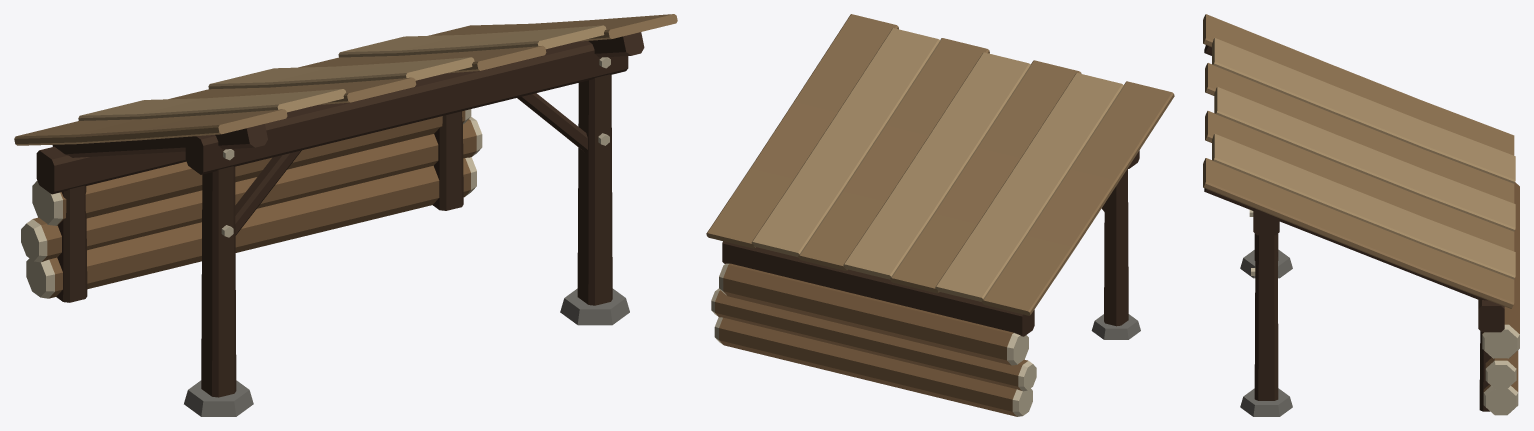
File: lean-to-shelter-f0709f.glb
3 views of the same model, side by side, from view 1: azimuth 30°, elevation 25°; view 2: azimuth 150°, elevation 25°; view 3: azimuth 270°, elevation 25° (orthographic). The views are drawn at different scales.
Visible parts, largest first — view 1: lean-to-shelter-shell; view 2: lean-to-shelter-shell; view 3: lean-to-shelter-shell.
Boxes of the visible parts, left/top/right/bottom form: lean-to-shelter-shell: left=14, top=14, right=677, bottom=416; lean-to-shelter-shell: left=706, top=14, right=1174, bottom=416; lean-to-shelter-shell: left=1203, top=14, right=1519, bottom=416.
Bounding box in the file's own units: 3.02 × 2.01 × 2.39.
